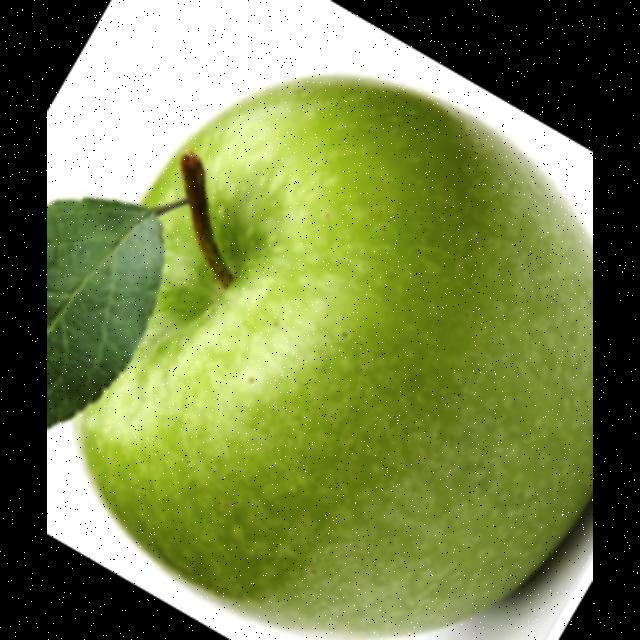Apel Segar: (78, 38, 592, 640)
